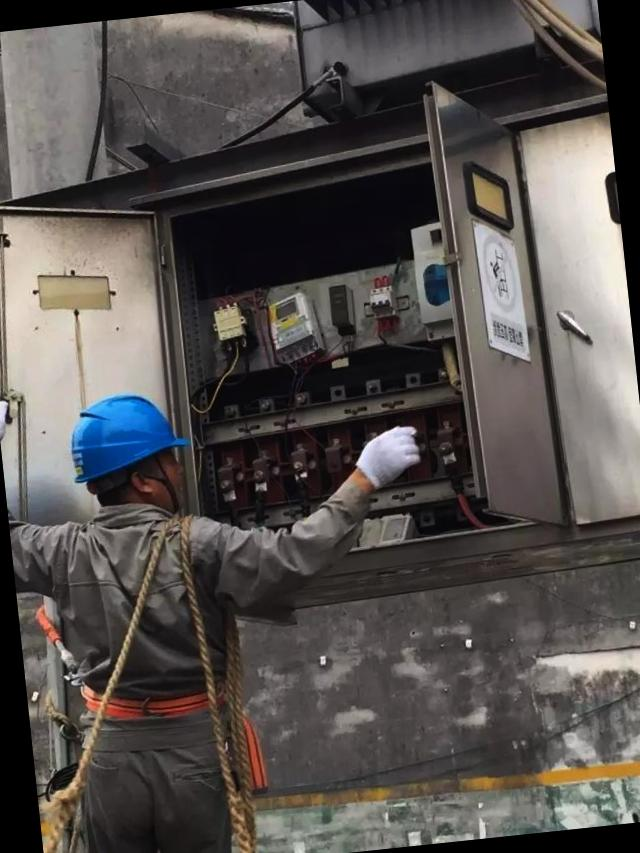helmet: (58, 387, 195, 500)
no_vest: (22, 472, 245, 736)
person: (0, 379, 278, 853)
